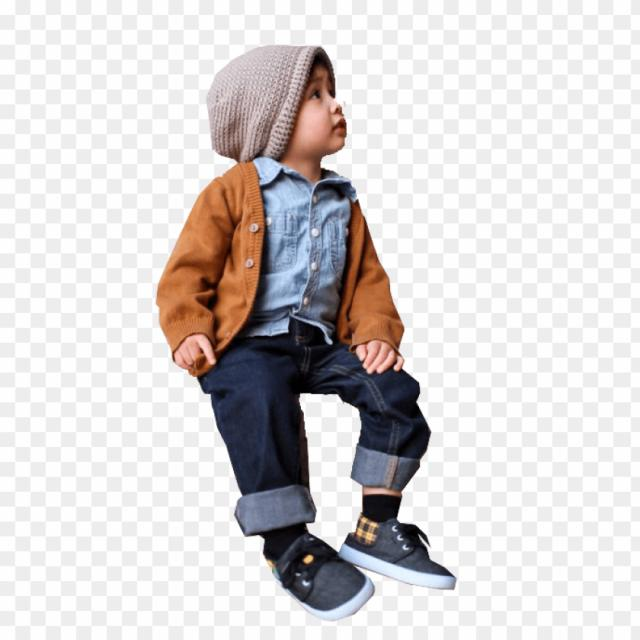child: (150, 36, 475, 629)
